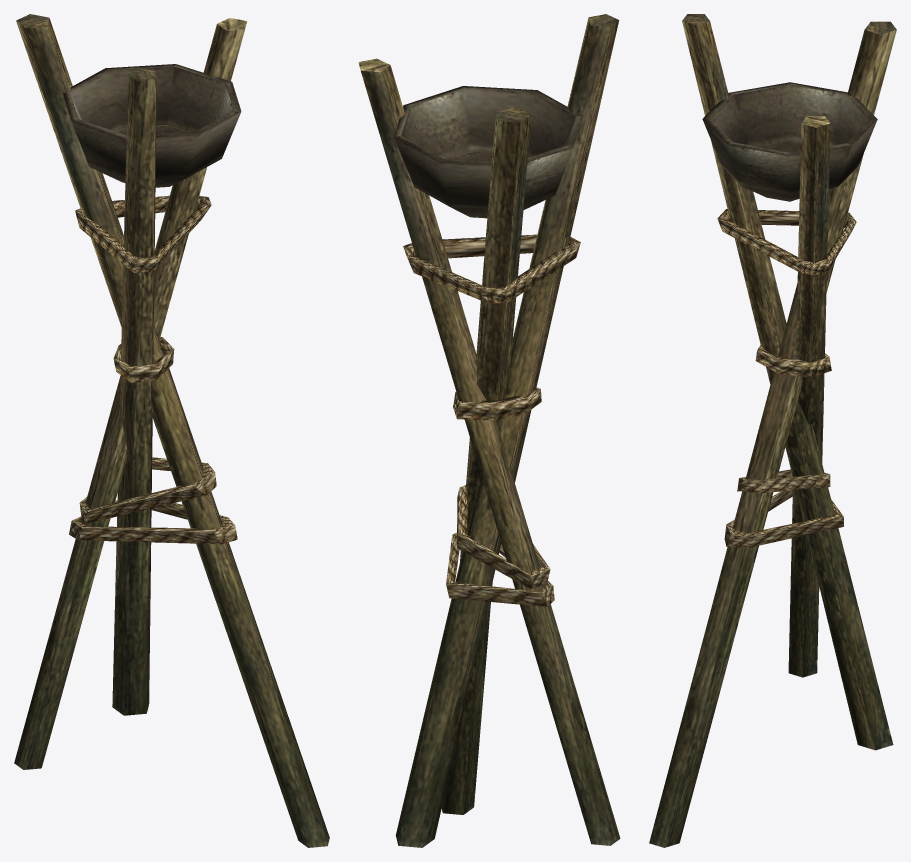
File: thing_fire_stand_bowl_00.glb
The picture shows the model from 3 angles, left to right: view 1: azimuth 30°, elevation 25°; view 2: azimuth 150°, elevation 25°; view 3: azimuth 270°, elevation 25°; orthographic projection. The views are drawn at different scales.
Visible parts, largest first — view 1: thing_fire_stand_bowl_00; view 2: thing_fire_stand_bowl_00; view 3: thing_fire_stand_bowl_00.
Boxes of the visible parts, x1,y1,x2,y2 form: thing_fire_stand_bowl_00: (14, 14, 329, 847); thing_fire_stand_bowl_00: (358, 14, 620, 847); thing_fire_stand_bowl_00: (649, 14, 896, 847).
Size of the model in its own units: 1.25 by 3.98 by 1.19.
Materials: 1 (1 with a texture image).
